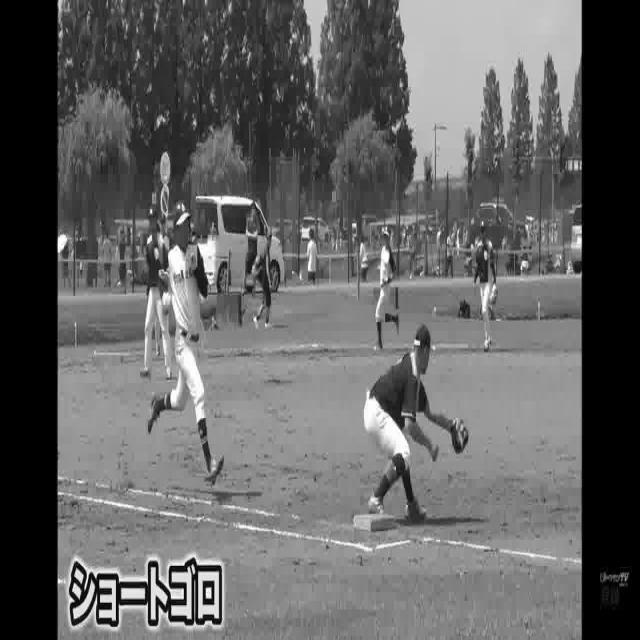base: (351, 510, 399, 530)
baseball_glove: (449, 419, 468, 452)
shoe: (146, 375, 163, 433), (208, 454, 229, 489), (405, 503, 432, 527), (366, 486, 386, 517)
